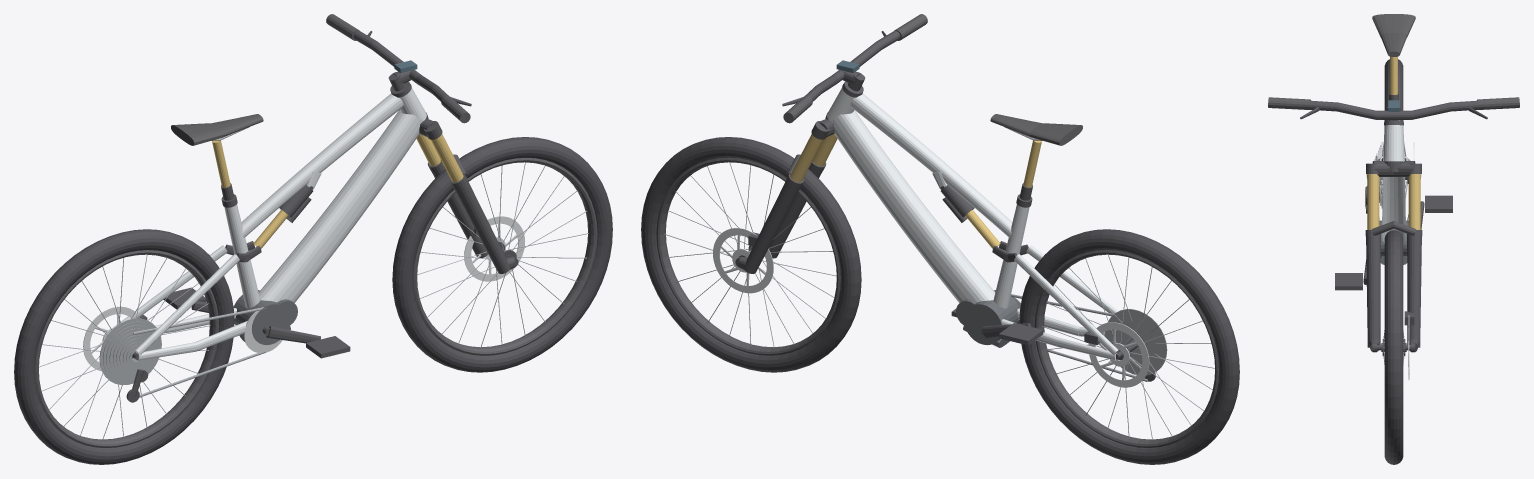
File: ebike-mtb-2027-orbea-rise-lt.glb
3 renders of one model, left to right at view 1: azimuth 30°, elevation 25°; view 2: azimuth 150°, elevation 25°; view 3: azimuth 270°, elevation 25°, orthographic. The views are drawn at different scales.
Parts seen in each view (by area): view 1: front_wheel_tire, rear_wheel_tire, frame_downtube, front_wheel_rim, rear_wheel_rim, frame_toptube, fork_lowers, drivetrain_cassette, front_wheel_spokes, rear_seatstays, drivetrain_crankset, ebike_motor_housing (+11 smaller); view 2: front_wheel_tire, rear_wheel_tire, frame_downtube, front_wheel_rim, rear_wheel_rim, frame_toptube, fork_lowers, drivetrain_cassette, front_wheel_spokes, rear_wheel_spokes, ebike_motor_housing, rear_seatstays (+10 smaller); view 3: front_wheel_tire, fork_lowers, cockpit_riser_bar, fork_stanchions, frame_downtube, saddle_shell, drivetrain_crankset, cockpit_grips, frame_headtube, fork_crown, rear_wheel_tire, seatpost_dropper_upper (+1 smaller).
Boxes of the visible parts, <box> form: front_wheel_tire: <box>392,137,612,372</box>; rear_wheel_tire: <box>14,229,234,464</box>; frame_downtube: <box>258,110,422,302</box>; front_wheel_rim: <box>413,158,597,355</box>; rear_wheel_rim: <box>35,250,219,447</box>; frame_toptube: <box>241,93,403,237</box>; fork_lowers: <box>427,154,518,273</box>; drivetrain_cassette: <box>99,318,161,385</box>; front_wheel_spokes: <box>417,162,588,348</box>; rear_seatstays: <box>113,245,239,354</box>; drivetrain_crankset: <box>163,287,350,358</box>; ebike_motor_housing: <box>233,290,297,345</box>; front_wheel_tire: <box>641,137,861,372</box>; rear_wheel_tire: <box>1019,229,1239,464</box>; frame_downtube: <box>831,110,995,302</box>; front_wheel_rim: <box>656,158,840,355</box>; rear_wheel_rim: <box>1034,250,1218,447</box>; frame_toptube: <box>850,93,1012,237</box>; fork_lowers: <box>735,154,826,273</box>; drivetrain_cassette: <box>1105,309,1167,375</box>; front_wheel_spokes: <box>664,162,836,347</box>; rear_wheel_spokes: <box>1042,254,1214,439</box>; ebike_motor_housing: <box>956,290,1019,347</box>; rear_seatstays: <box>1014,245,1118,354</box>; front_wheel_tire: <box>1384,230,1403,464</box>; fork_lowers: <box>1365,221,1422,352</box>; cockpit_riser_bar: <box>1302,100,1485,119</box>; fork_stanchions: <box>1367,174,1420,229</box>; frame_downtube: <box>1382,151,1405,243</box>; saddle_shell: <box>1372,14,1415,56</box>; drivetrain_crankset: <box>1335,195,1452,290</box>; cockpit_grips: <box>1268,97,1519,109</box>; frame_headtube: <box>1383,125,1404,161</box>; fork_crown: <box>1366,161,1421,176</box>; rear_wheel_tire: <box>1384,59,1403,120</box>; seatpost_dropper_upper: <box>1390,56,1397,94</box>.
Size of the model in its own units: 2 by 1.06 by 0.7833.
